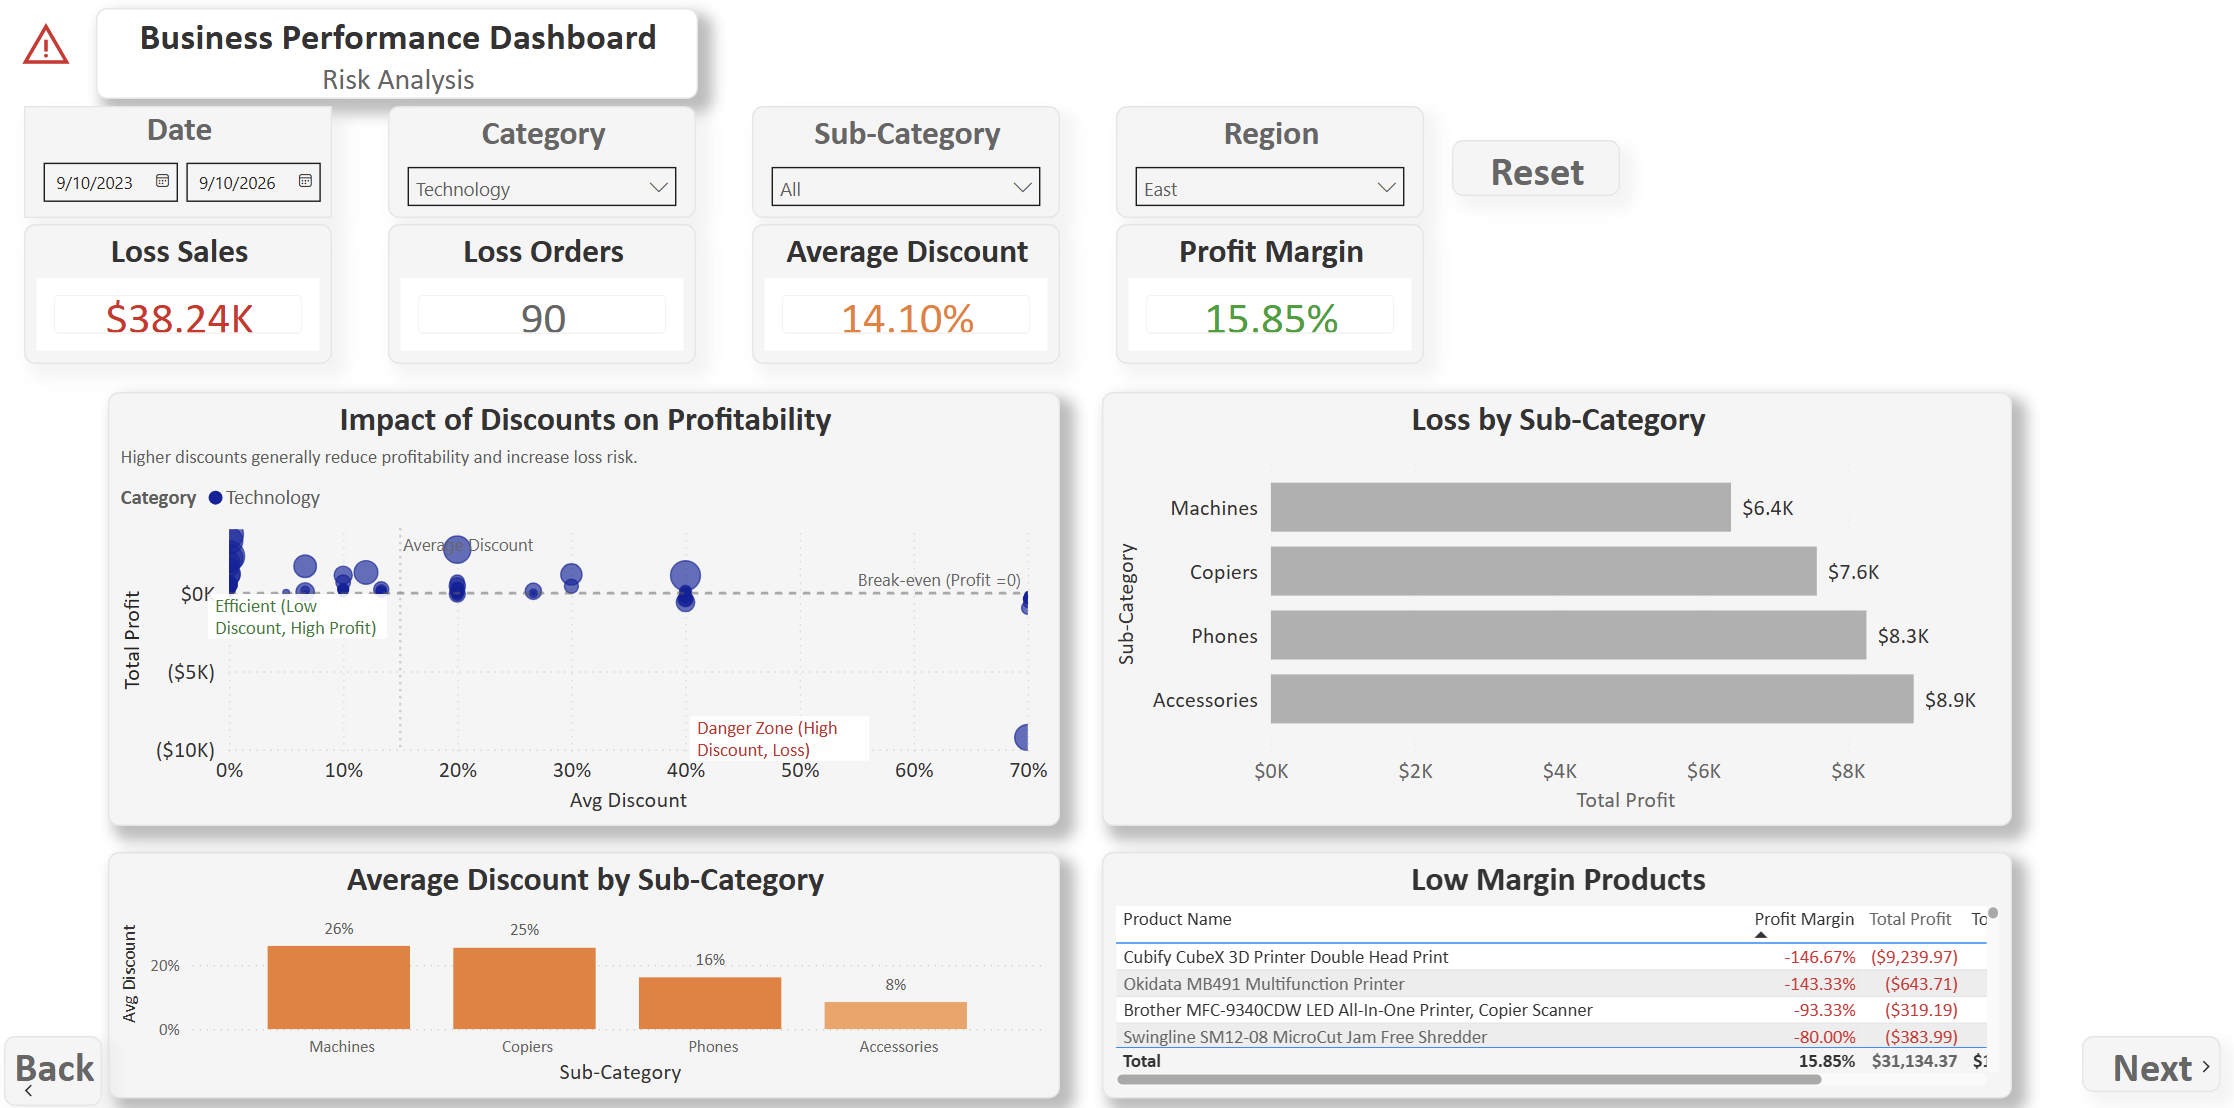

The dashboard page shown, as its layout file describes it:
{"tool":"powerbi","page":{"name":"Risk & Efficiency Analysis","canvas":[1600,800],"ordinal":2},"visuals":[{"type":"clusteredBarChart","title":"Loss by Sub-Category","fields":{"Category":["samplesuperstore.Sub-Category"],"Y":["samplesuperstore.Total Profit"]},"box":[790,280,650,310],"z":0},{"type":"clusteredColumnChart","title":"Average Discount by Sub-Category","fields":{"Category":["samplesuperstore.Sub-Category"],"Y":["samplesuperstore.Avg Discount"]},"box":[80,608,680,176],"z":1000},{"type":"scatterChart","title":"Impact of Discounts on Profitability","fields":{"X":["samplesuperstore.Avg Discount"],"Size":["samplesuperstore.Total Sales"],"Y":["samplesuperstore.Total Profit"],"Series":["samplesuperstore.Category"],"Category":["samplesuperstore.Product Name"]},"box":[80,280,680,310],"z":2000},{"type":"textbox","title":"Business Performance Dashboard","box":[72,5,430,65],"z":3000},{"type":"slicer","title":"Date","fields":{"Values":["samplesuperstore.Order Date"]},"box":[20,75,220,80],"z":4000},{"type":"slicer","title":"Category","fields":{"Values":["samplesuperstore.Category"]},"box":[280,75,220,80],"z":5000},{"type":"slicer","title":"Sub-Category","fields":{"Values":["samplesuperstore.Sub-Category"]},"box":[540,75,220,80],"z":6000},{"type":"slicer","title":"Region","fields":{"Values":["samplesuperstore.Region"]},"box":[800,75,220,80],"z":7000},{"type":"actionButton","title":"Reset","box":[1040,100,120,40],"z":8000},{"type":"cardVisual","title":"Loss Sales","fields":{"Data":["samplesuperstore.Loss Sales"]},"box":[20,160,220,100],"z":9000},{"type":"cardVisual","title":"Loss Orders","fields":{"Data":["samplesuperstore.Loss Orders"]},"box":[280,160,220,100],"z":10000},{"type":"cardVisual","title":"Average Discount","fields":{"Data":["samplesuperstore.Avg Discount"]},"box":[540,160,220,100],"z":11000},{"type":"cardVisual","title":"Profit Margin","fields":{"Data":["samplesuperstore.Profit Margin"]},"box":[800,160,220,100],"z":12000},{"type":"textbox","title":"Efficient (Low Discount, High Profit)","box":[152,424,128,32],"z":13000},{"type":"textbox","title":"Danger Zone (High Discount, Loss)","box":[496,512,128,32],"z":16000},{"type":"tableEx","title":"Low Margin Products","fields":{"Values":["samplesuperstore.Product Name","samplesuperstore.Profit Margin","samplesuperstore.Total Profit","samplesuperstore.Total Sales","samplesuperstore.Avg Discount"]},"box":[790,608,650,176],"z":17000},{"type":"actionButton","title":"Next","box":[1490,740,99,40],"z":18000},{"type":"actionButton","title":"Back","box":[5,740,70,50],"z":19000},{"type":"image","box":[15,12,40,40],"z":20000},{"type":"image","box":[1570,753,18,18],"z":21000},{"type":"image","box":[14,770,18,18],"z":22000}]}

Visuals, with their boxes in screenshot pixels (x1, y1, x2, y2), scaled from the page's 1600x800 canvas onto the 2234x1108 screenshot:
"Loss by Sub-Category" clusteredBarChart: select_region(1103, 388, 2011, 817)
"Average Discount by Sub-Category" clusteredColumnChart: select_region(112, 842, 1061, 1086)
"Impact of Discounts on Profitability" scatterChart: select_region(112, 388, 1061, 817)
"Business Performance Dashboard" textbox: select_region(101, 7, 701, 97)
"Date" slicer: select_region(28, 104, 335, 215)
"Category" slicer: select_region(391, 104, 698, 215)
"Sub-Category" slicer: select_region(754, 104, 1061, 215)
"Region" slicer: select_region(1117, 104, 1424, 215)
"Reset" actionButton: select_region(1452, 138, 1620, 194)
"Loss Sales" cardVisual: select_region(28, 222, 335, 360)
"Loss Orders" cardVisual: select_region(391, 222, 698, 360)
"Average Discount" cardVisual: select_region(754, 222, 1061, 360)
"Profit Margin" cardVisual: select_region(1117, 222, 1424, 360)
"Efficient (Low Discount, High Profit)" textbox: select_region(212, 587, 391, 632)
"Danger Zone (High Discount, Loss)" textbox: select_region(693, 709, 871, 753)
"Low Margin Products" tableEx: select_region(1103, 842, 2011, 1086)
"Next" actionButton: select_region(2080, 1025, 2219, 1080)
"Back" actionButton: select_region(7, 1025, 105, 1094)
image: select_region(21, 17, 77, 72)
image: select_region(2192, 1043, 2217, 1068)
image: select_region(20, 1066, 45, 1091)
